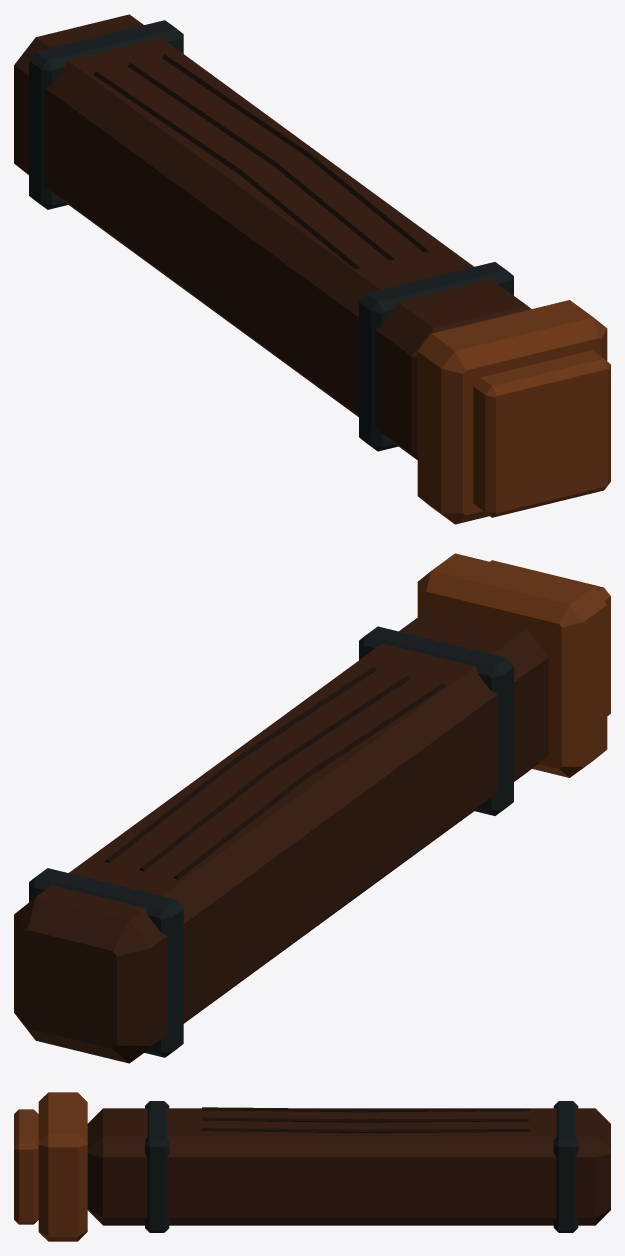
Rendered from BridgePost.obj.
3 views of the same model, one above another, from view 1: azimuth 30°, elevation 25°; view 2: azimuth 150°, elevation 25°; view 3: azimuth 270°, elevation 25° (orthographic). The views are drawn at different scales.
Parts seen in each view (by area): view 1: BridgePost; view 2: BridgePost; view 3: BridgePost.
Part boxes in pixels (left/top/right/bottom): BridgePost: left=14, top=14, right=610, bottom=524; BridgePost: left=14, top=553, right=610, bottom=1063; BridgePost: left=14, top=1092, right=610, bottom=1241.
Bounding box in the file's own units: 29 × 29 × 146.
